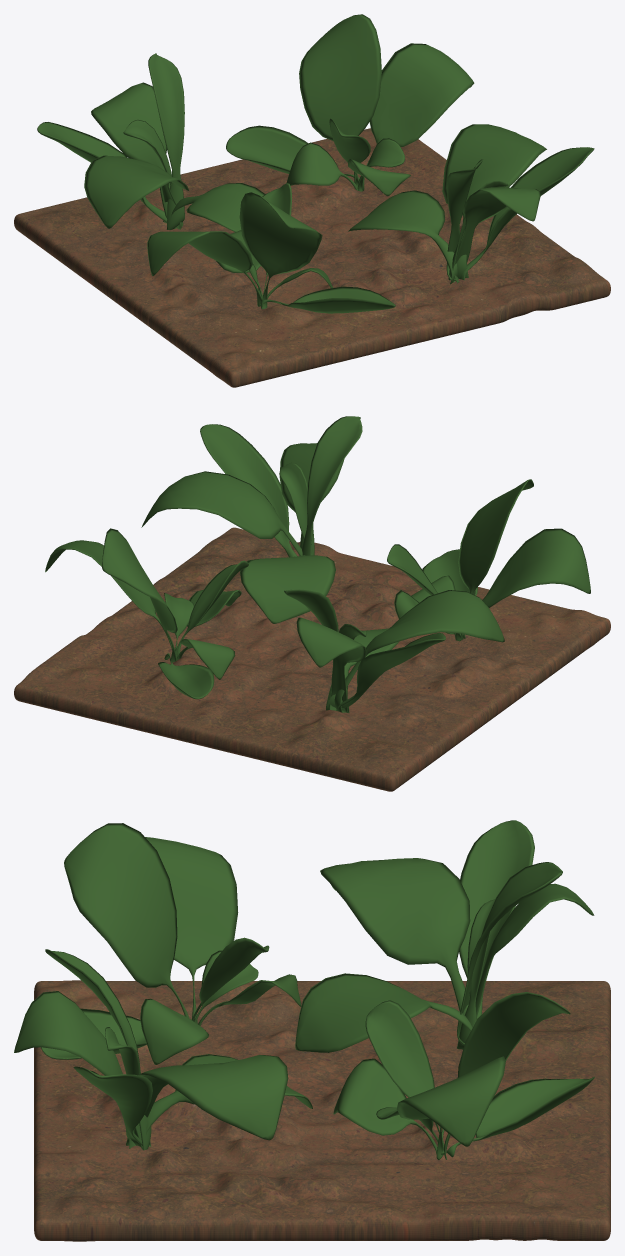
3 views of the same model, one above another, from view 1: azimuth 30°, elevation 25°; view 2: azimuth 150°, elevation 25°; view 3: azimuth 270°, elevation 25° (orthographic). The views are drawn at different scales.
Visible parts, largest first — view 1: 栅格.001, Bergenia Rotblum Set.002, Bergenia Rotblum Set.001, Bergenia Rotblum Set.015, Bergenia Rotblum Set.023; view 2: 栅格.001, Bergenia Rotblum Set.015, Bergenia Rotblum Set.001, Bergenia Rotblum Set.023, Bergenia Rotblum Set.002; view 3: 栅格.001, Bergenia Rotblum Set.001, Bergenia Rotblum Set.023, Bergenia Rotblum Set.002, Bergenia Rotblum Set.015.
Boxes of the visible parts, x1,y1,x2,y2 form: 栅格.001: (14,128,610,387); Bergenia Rotblum Set.002: (226,14,474,196); Bergenia Rotblum Set.001: (37,53,265,231); Bergenia Rotblum Set.015: (348,124,594,284); Bergenia Rotblum Set.023: (147,183,395,313); 栅格.001: (14,527,610,791); Bergenia Rotblum Set.015: (141,416,362,623); Bergenia Rotblum Set.001: (284,589,504,712); Bergenia Rotblum Set.023: (387,479,590,641); Bergenia Rotblum Set.002: (45,528,248,699); 栅格.001: (34,980,610,1241); Bergenia Rotblum Set.001: (295,820,594,1052); Bergenia Rotblum Set.023: (41,823,301,1064); Bergenia Rotblum Set.002: (333,992,594,1159); Bergenia Rotblum Set.015: (14,949,312,1150).
Bounding box in the file's own units: 303 × 109 × 277.
